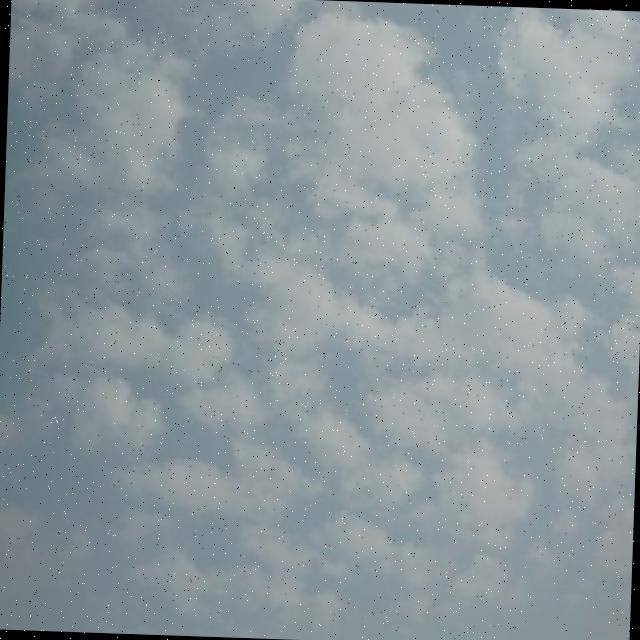Ac: (1, 14, 640, 566)
